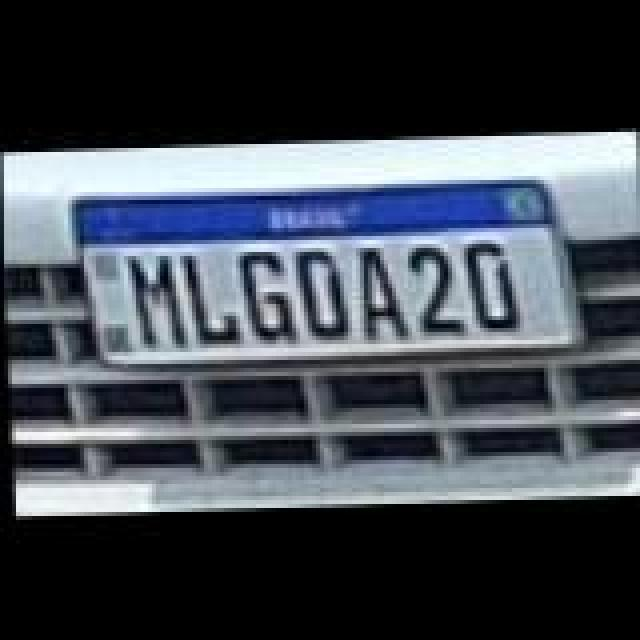2: (398, 236, 462, 332)
A: (348, 242, 408, 338)
D: (456, 234, 524, 330), (290, 238, 354, 338)
G: (234, 240, 298, 340)
L: (184, 246, 248, 346)
M: (128, 248, 192, 348)
